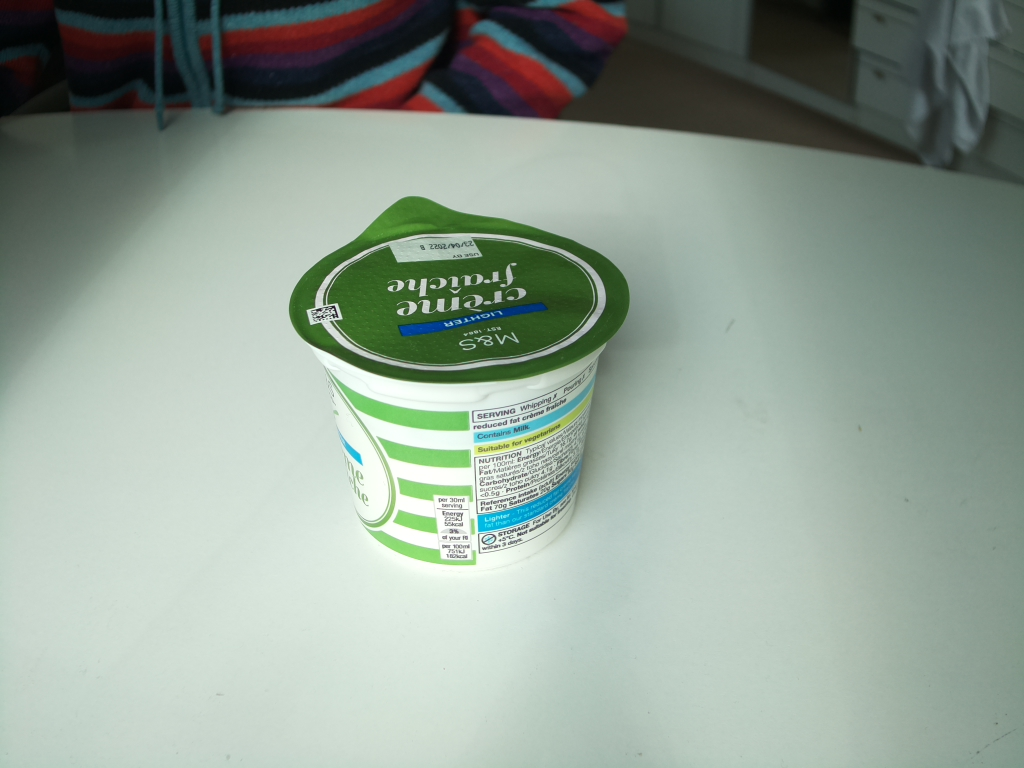cream: (287, 194, 629, 570)
